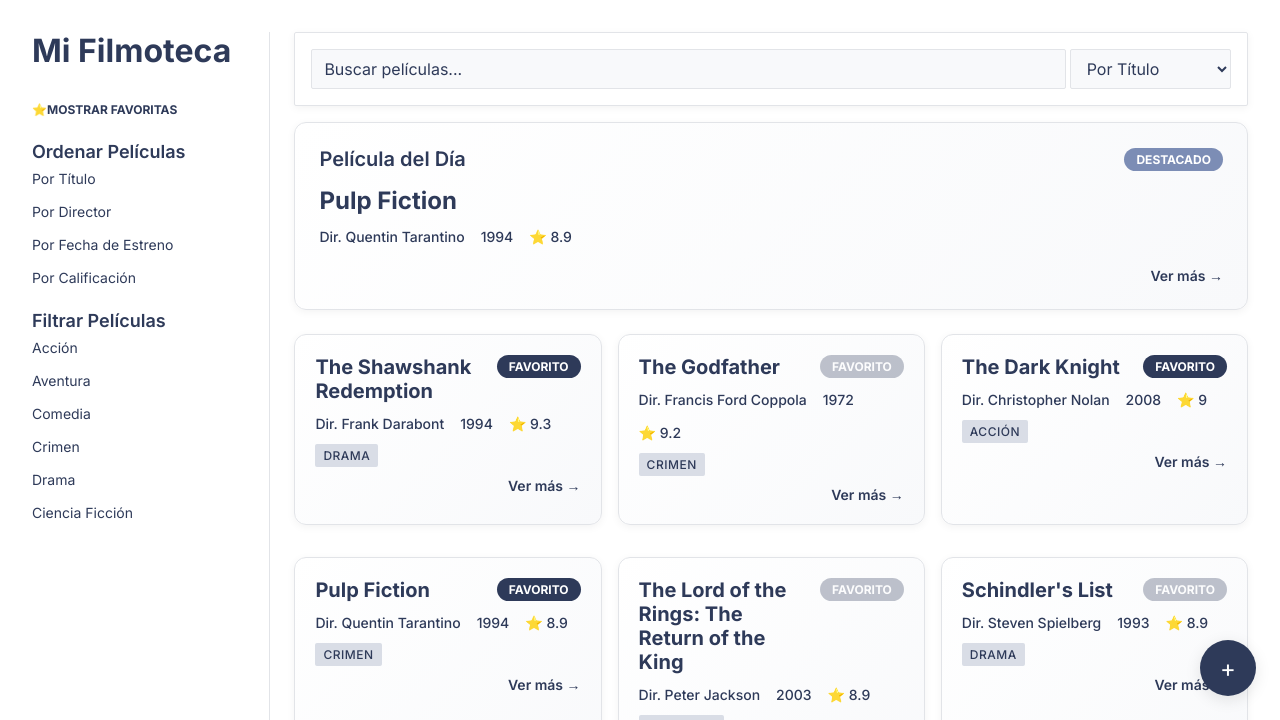
Scenario: E2E Page Pieces - Functional Sections › Movie Creation Button › should open movie creation modal
What coordinates should you click on to do the following:
click the button "+"
I would click on:
 (1228, 668)
Its box is [1200,640,1256,696].
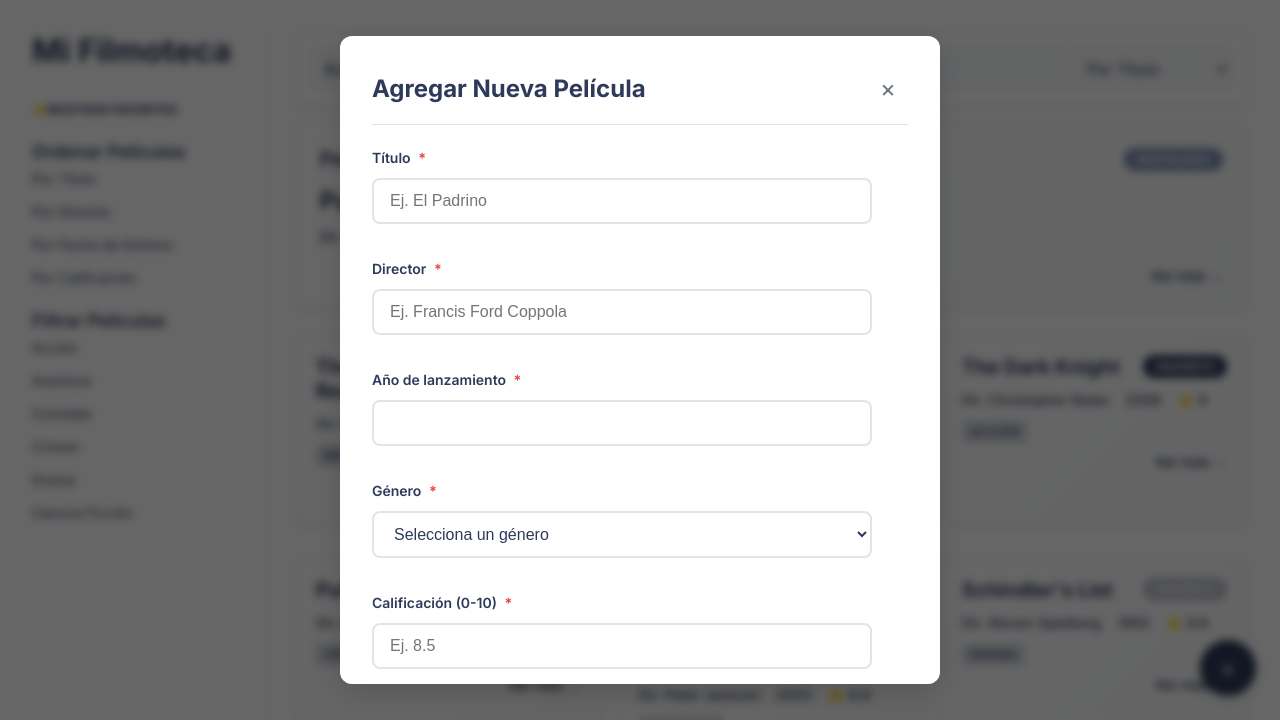
expect the form is shown: met, box [372,149,872,719]
